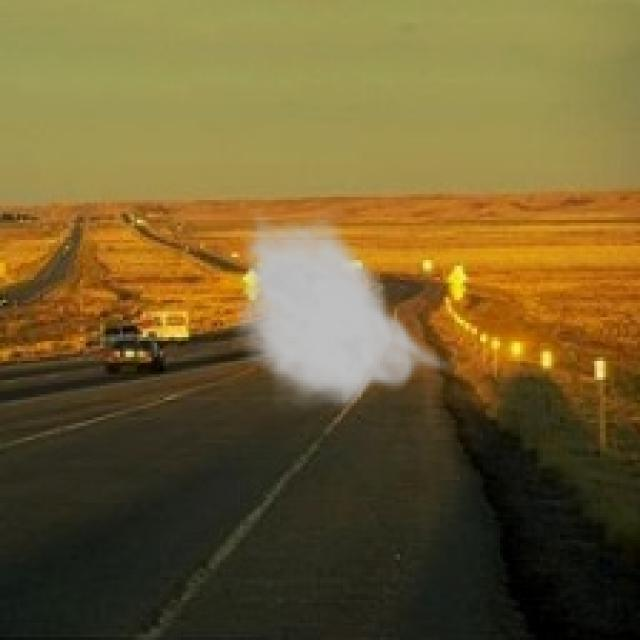smoke: (231, 206, 460, 414)
